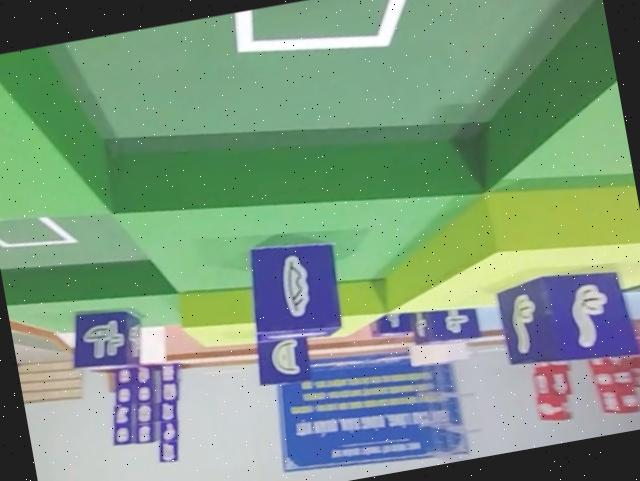R2 Real Blue: (494, 255, 640, 374), (241, 230, 351, 348), (61, 299, 145, 376), (250, 326, 322, 391), (411, 296, 481, 353)
